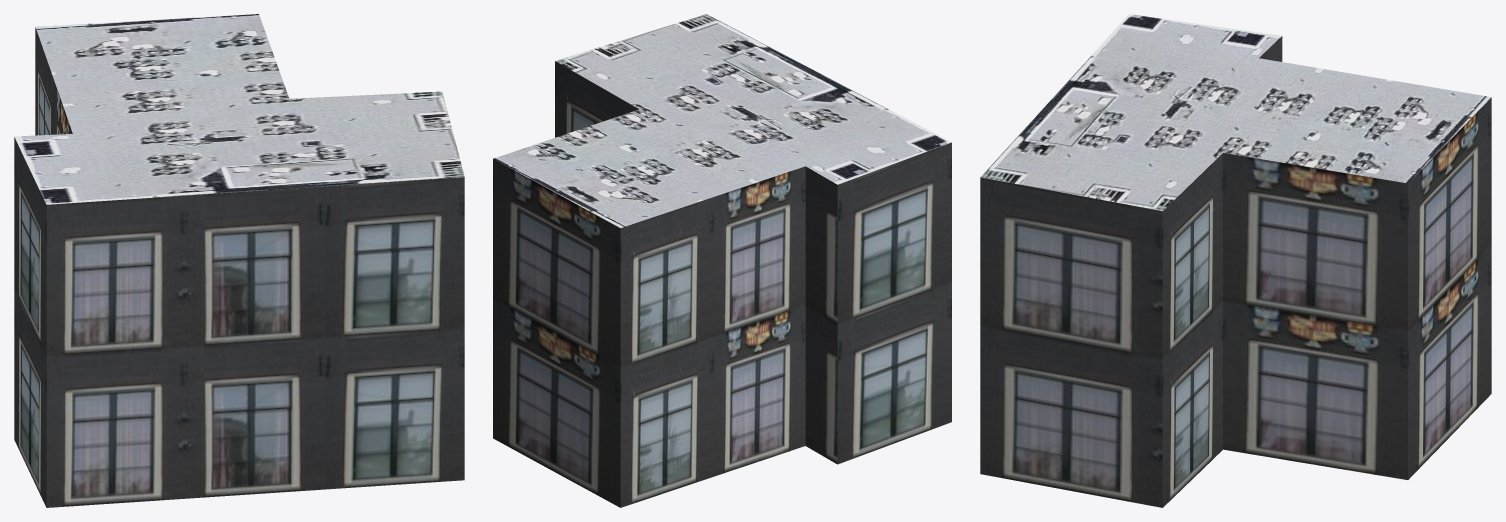
File: ResTex__2579.fbx
3 renders of one model, left to right at view 1: azimuth 30°, elevation 25°; view 2: azimuth 150°, elevation 25°; view 3: azimuth 270°, elevation 25°, orthographic. The views are drawn at different scales.
Visible parts, largest first — view 1: CityEngineMaterial_22_m, CityEngineMaterial_8_m; view 2: CityEngineMaterial_22_m, CityEngineMaterial_8_m; view 3: CityEngineMaterial_22_m, CityEngineMaterial_8_m.
Boxes of the visible parts, x1,y1,x2,y2 form: CityEngineMaterial_22_m: (14, 27, 464, 507); CityEngineMaterial_8_m: (14, 14, 464, 204); CityEngineMaterial_22_m: (493, 61, 951, 507); CityEngineMaterial_8_m: (493, 14, 951, 228); CityEngineMaterial_22_m: (980, 36, 1491, 507); CityEngineMaterial_8_m: (980, 14, 1491, 211).
Size of the model in its own units: 8.55 by 6 by 9.37.
Materials: 2 (2 with a texture image).
